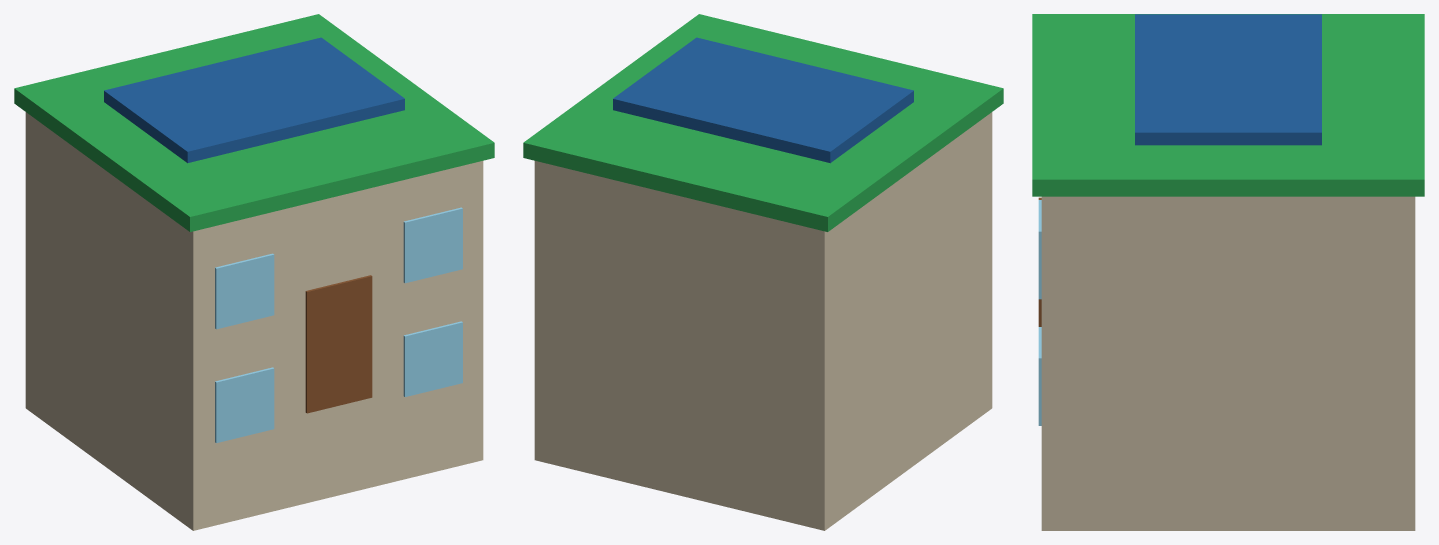
The model's file is Building.obj.
3 views of the same model, side by side, from view 1: azimuth 30°, elevation 25°; view 2: azimuth 150°, elevation 25°; view 3: azimuth 270°, elevation 25° (orthographic). The views are drawn at different scales.
Parts seen in each view (by area): view 1: Building; view 2: Building; view 3: Building.
Part boxes in pixels (x1,y1,x2,y2): Building: [14, 14, 494, 530]; Building: [523, 14, 1003, 530]; Building: [1032, 14, 1424, 530].
Size of the model in its own units: 4.2 by 4.47 by 4.2.
